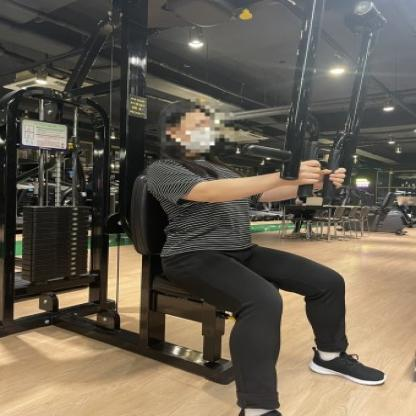chest fly machine: (0, 0, 393, 416)
